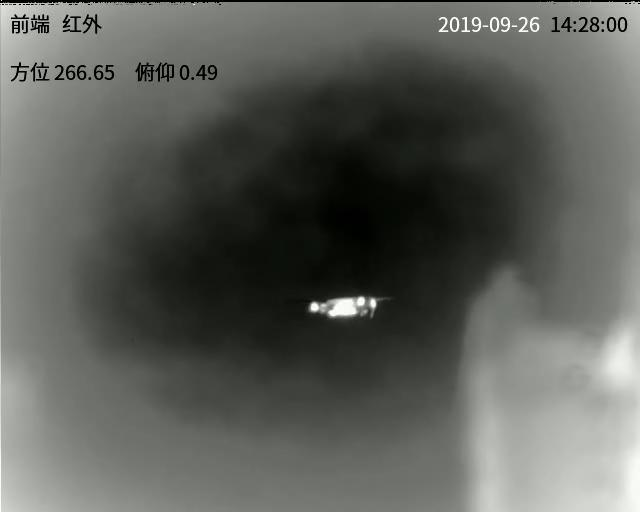uav: (300, 291, 390, 324)
